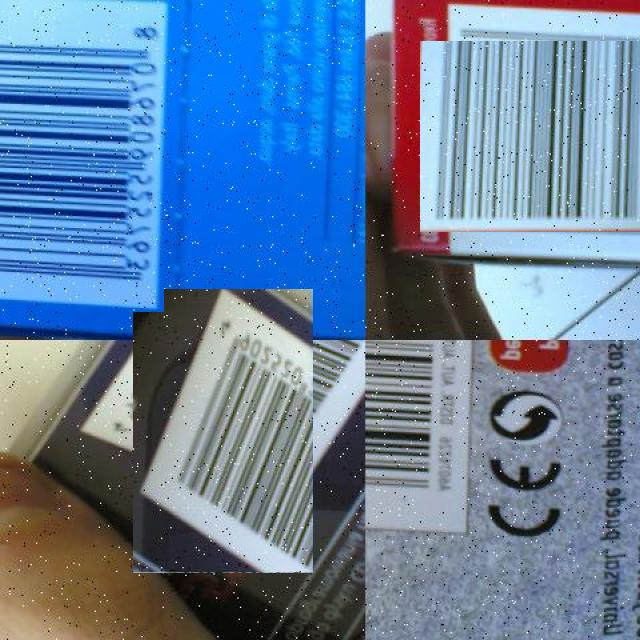Barcode: (107, 314, 340, 547), (0, 0, 164, 312), (434, 27, 640, 247), (366, 340, 478, 537)
